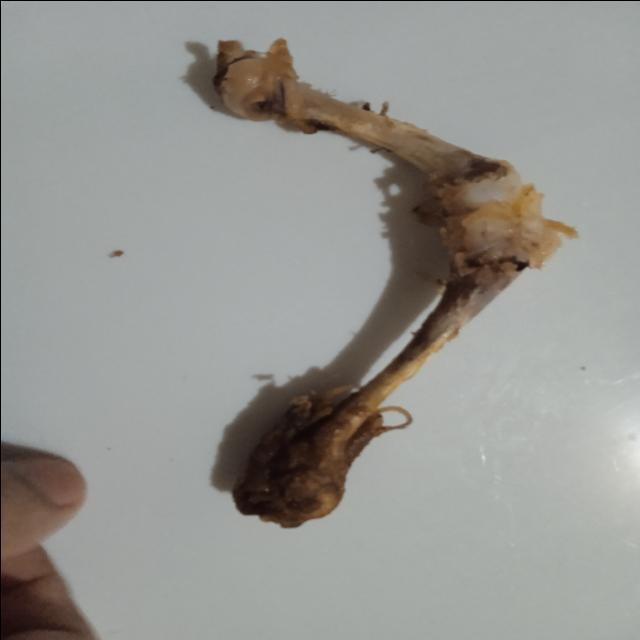bone: (178, 25, 592, 541)
